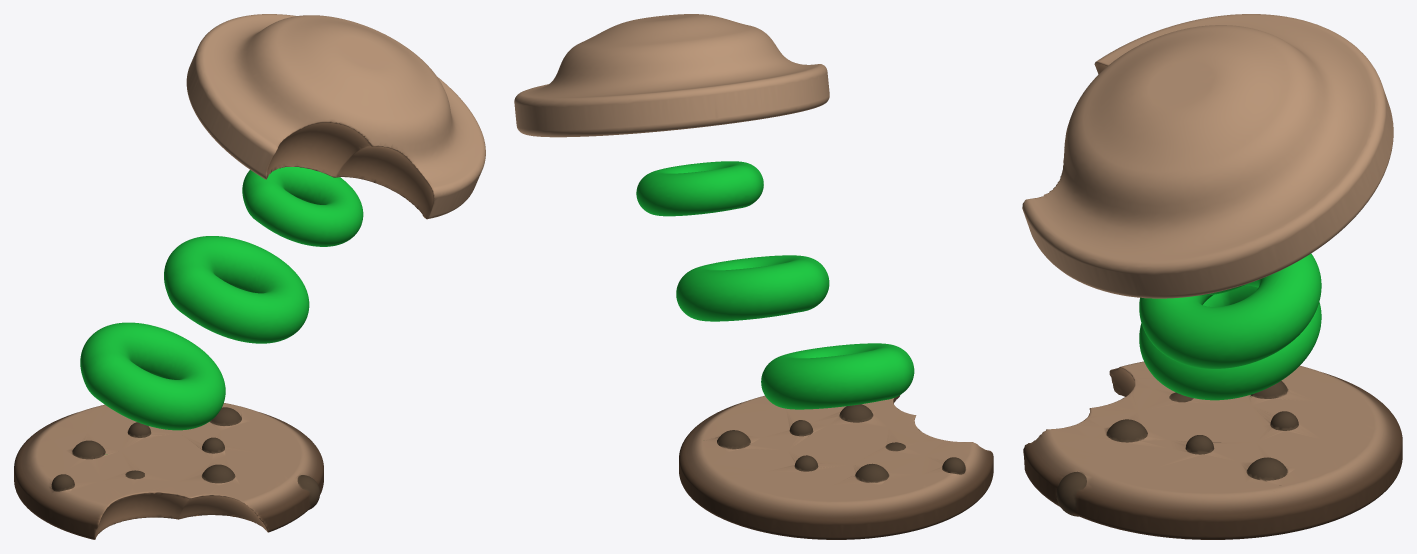
3 renders of one model, left to right at view 1: azimuth 30°, elevation 25°; view 2: azimuth 150°, elevation 25°; view 3: azimuth 270°, elevation 25°, orthographic. The views are drawn at different scales.
Parts seen in each view (by area): view 1: Area (3); view 2: Area (3); view 3: Area (3).
Part boxes in pixels (x1=…): Area (3): x1=14, y1=14, x2=485, y2=539; Area (3): x1=514, y1=14, x2=993, y2=539; Area (3): x1=1022, y1=14, x2=1402, y2=539.
Size of the model in its own units: 163 by 150 by 102.
1 material, 1 textured.
